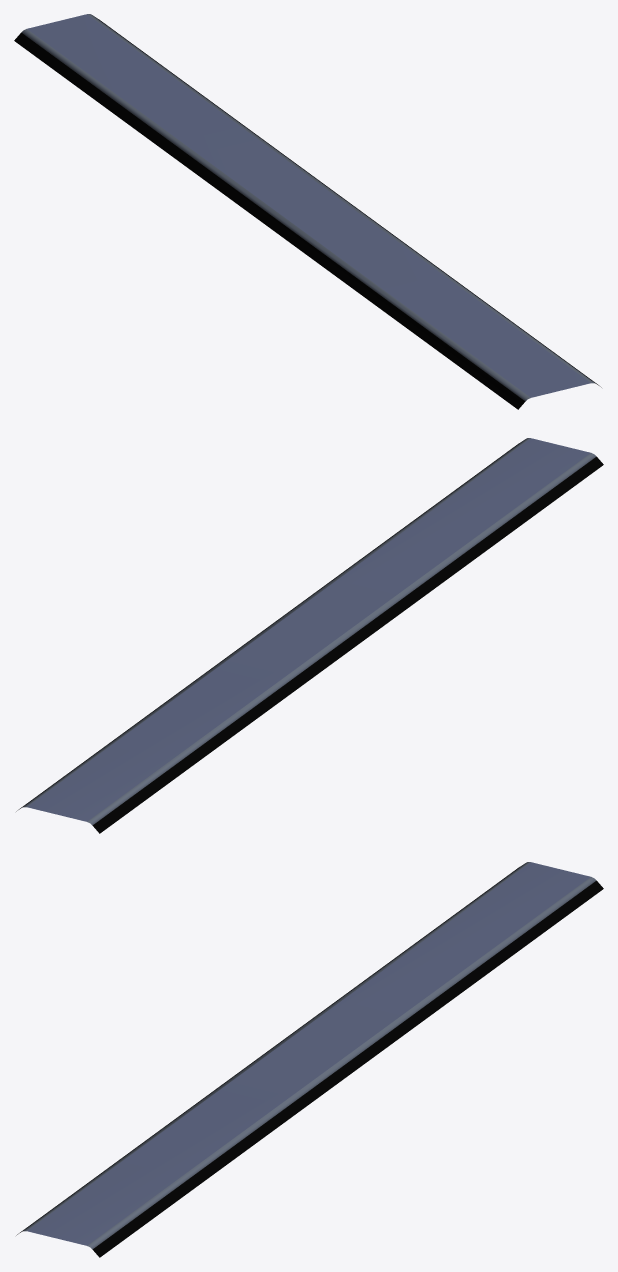
Rendered from Street.fbx.
3 views of the same model, one above another, from view 1: azimuth 30°, elevation 25°; view 2: azimuth 150°, elevation 25°; view 3: azimuth 330°, elevation 25° (orthographic).
Parts seen in each view (by area): view 1: Street; view 2: Street; view 3: Street.
Part boxes in pixels (x1=…): Street: x1=14, y1=14, x2=601, y2=409; Street: x1=16, y1=438, x2=603, y2=833; Street: x1=16, y1=862, x2=603, y2=1257.
Bounding box in the file's own units: 140 × 13.76 × 1422.
